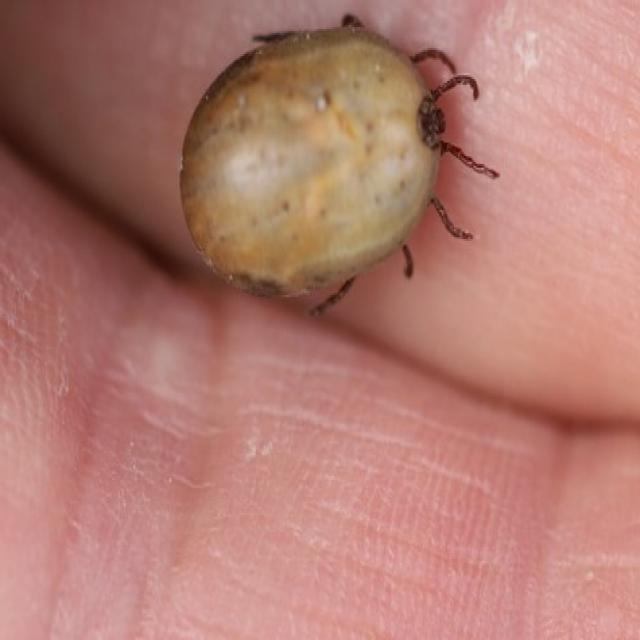Dermacentor Reticulatus-F-Fed: (178, 13, 499, 318)
